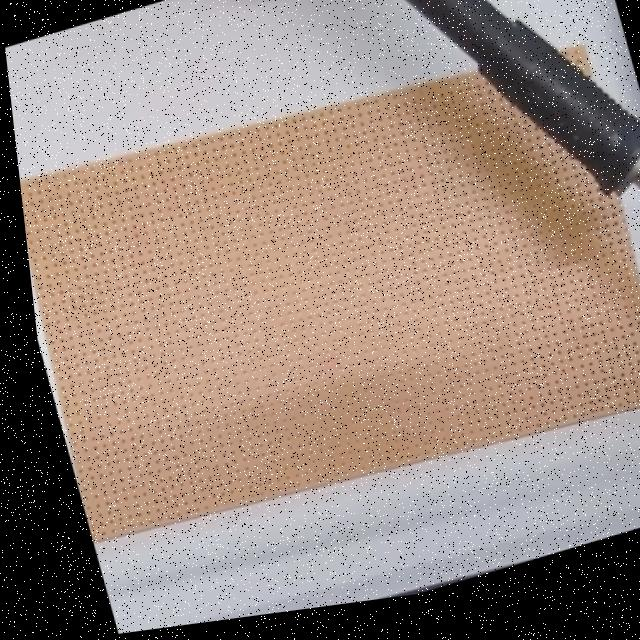soldering_iron: (353, 0, 640, 288)
